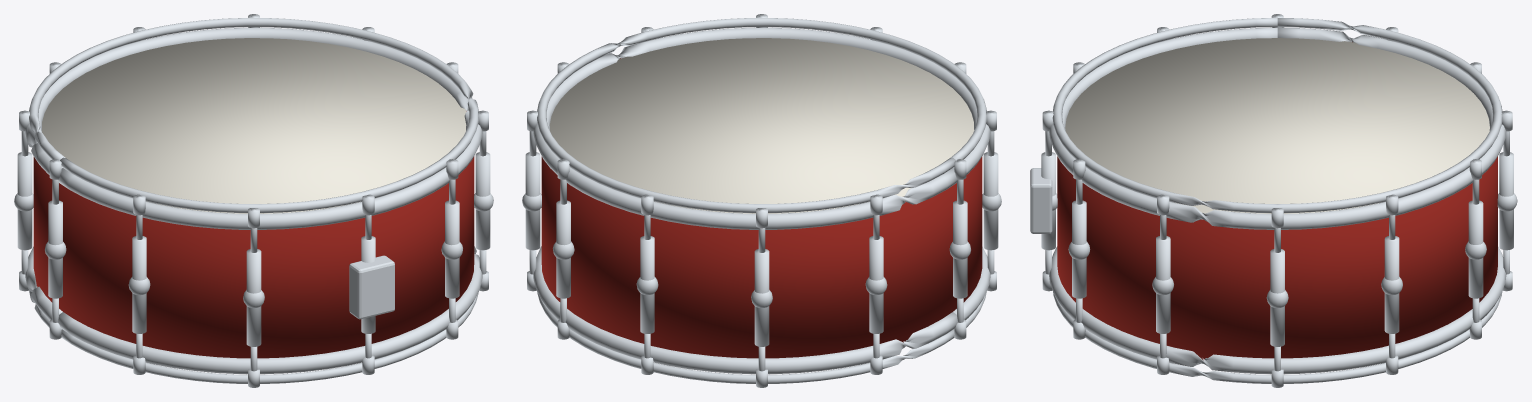
File: caisse-claire.glb
3 renders of one model, left to right at view 1: azimuth 30°, elevation 25°; view 2: azimuth 150°, elevation 25°; view 3: azimuth 270°, elevation 25°, orthographic.
Visible parts, largest first — view 1: caisse-claire — Peau sablee, caisse-claire — Maillechort argente, caisse-claire — Laque acajou; view 2: caisse-claire — Peau sablee, caisse-claire — Maillechort argente, caisse-claire — Laque acajou; view 3: caisse-claire — Peau sablee, caisse-claire — Maillechort argente, caisse-claire — Laque acajou.
Part boxes in pixels (x1=…): caisse-claire — Peau sablee: x1=41, y1=38, x2=466, y2=213; caisse-claire — Maillechort argente: x1=14, y1=14, x2=493, y2=387; caisse-claire — Laque acajou: x1=33, y1=111, x2=474, y2=358; caisse-claire — Peau sablee: x1=549, y1=38, x2=974, y2=213; caisse-claire — Maillechort argente: x1=522, y1=14, x2=1001, y2=387; caisse-claire — Laque acajou: x1=541, y1=58, x2=982, y2=358; caisse-claire — Peau sablee: x1=1065, y1=38, x2=1489, y2=213; caisse-claire — Maillechort argente: x1=1030, y1=14, x2=1517, y2=387; caisse-claire — Laque acajou: x1=1057, y1=42, x2=1497, y2=360.
Bounding box in the file's own units: 0.392 × 0.162 × 0.398.
